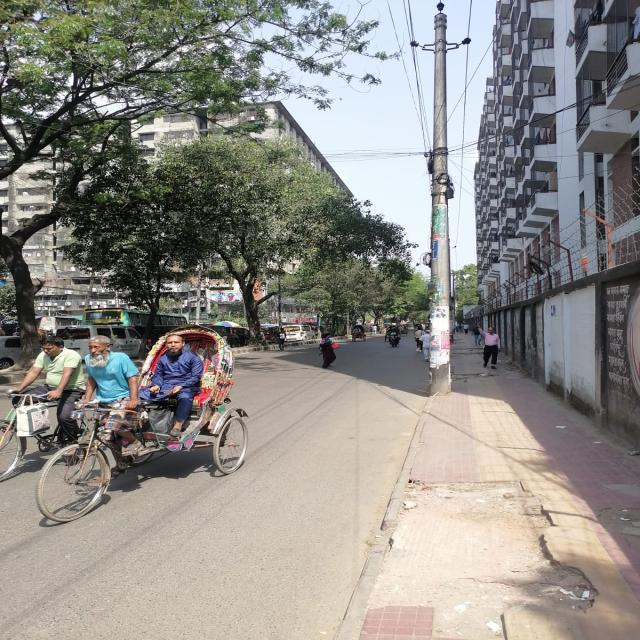person: (319, 332, 336, 369)
